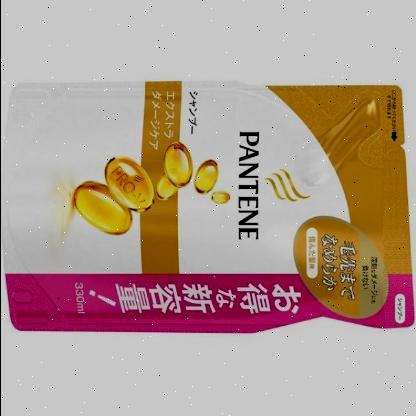Others: (6, 78, 412, 338)
